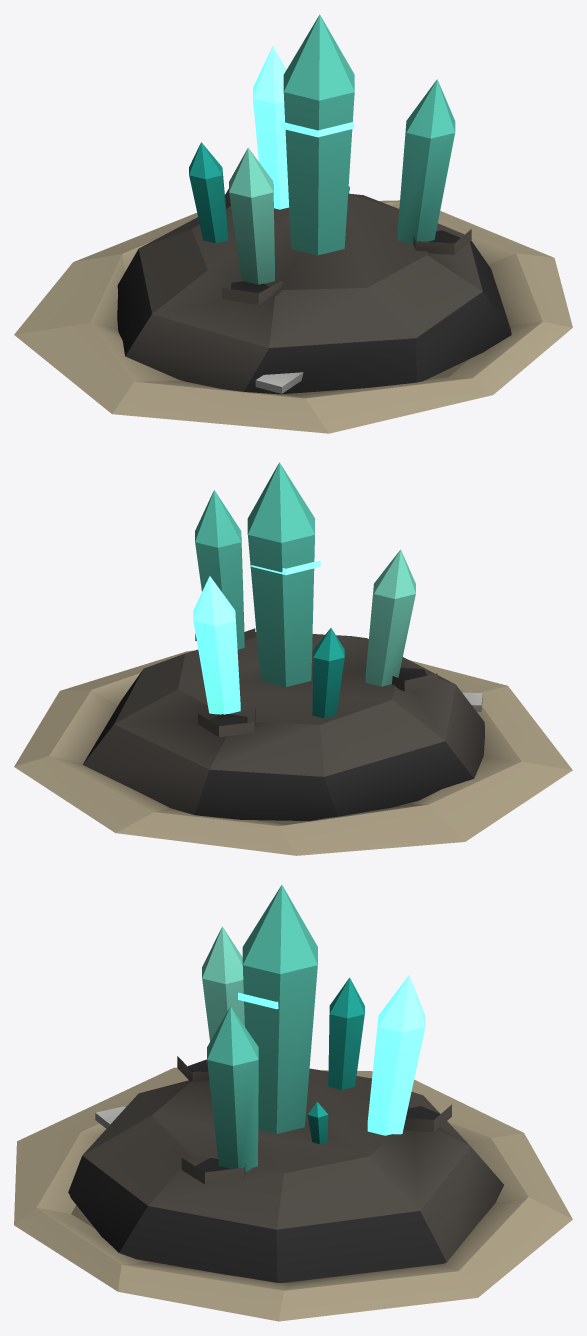
Rendered from n_crystal_branch.glb.
3 views of the same model, one above another, from view 1: azimuth 30°, elevation 25°; view 2: azimuth 150°, elevation 25°; view 3: azimuth 270°, elevation 25° (orthographic). The views are drawn at different scales.
Visible parts, largest first — view 1: body, deployCrystal0, deployCrystal1, deployCrystal2, deployCrystal3, deployCrystal4; view 2: body, deployCrystal0, deployCrystal3, deployCrystal2, deployCrystal1, deployCrystal4; view 3: body, deployCrystal0, deployCrystal1, deployCrystal3, deployCrystal4, deployCrystal2.
Boxes of the visible parts, x1=… form: body: x1=14, y1=186, x2=572, y2=433; deployCrystal0: x1=281, y1=14, x2=354, y2=255; deployCrystal1: x1=397, y1=79, x2=455, y2=244; deployCrystal2: x1=229, y1=148, x2=274, y2=284; deployCrystal3: x1=253, y1=46, x2=289, y2=209; deployCrystal4: x1=189, y1=142, x2=228, y2=243; body: x1=14, y1=628, x2=572, y2=855; deployCrystal0: x1=247, y1=462, x2=320, y2=686; deployCrystal3: x1=193, y1=576, x2=240, y2=714; deployCrystal2: x1=365, y1=549, x2=415, y2=686; deployCrystal1: x1=195, y1=490, x2=244, y2=649; deployCrystal4: x1=312, y1=628, x2=344, y2=718; body: x1=14, y1=1056, x2=572, y2=1321; deployCrystal0: x1=238, y1=885, x2=317, y2=1133; deployCrystal1: x1=207, y1=1006, x2=258, y2=1171; deployCrystal3: x1=367, y1=975, x2=425, y2=1135; deployCrystal4: x1=328, y1=977, x2=364, y2=1089; deployCrystal2: x1=202, y1=926, x2=244, y2=1041.
Size of the model in its own units: 2.22 by 1.29 by 2.06.
